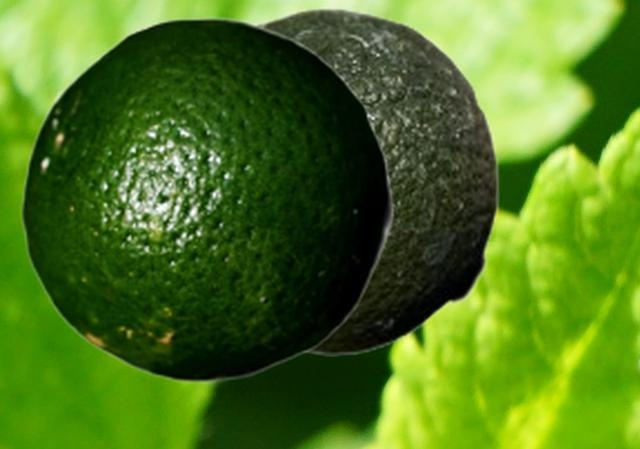calamansi: (20, 16, 394, 382), (249, 7, 499, 355)
